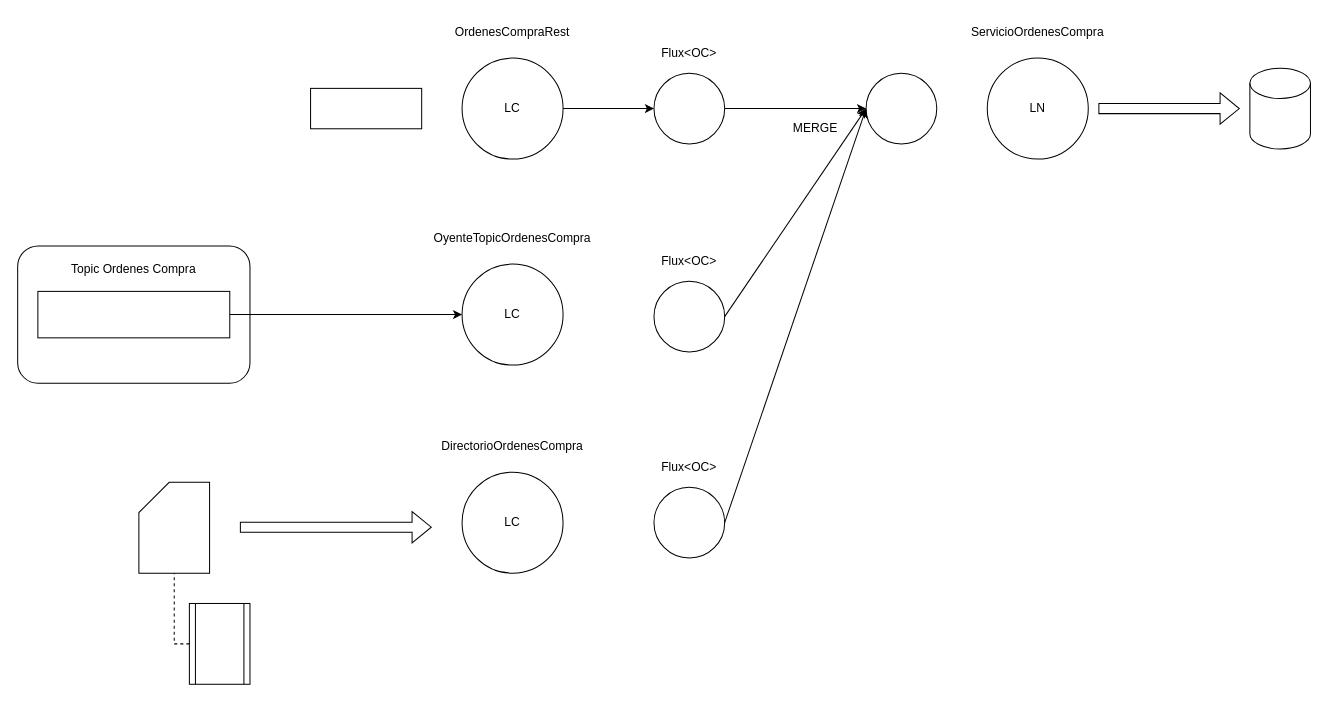
The diagram is 1328 pixels wide and 702 high, and some of its shapes have lost their labels. Each missing label, with the centre of its shape:
Ordenes Compra: (174,527)
REST: (366,108)
